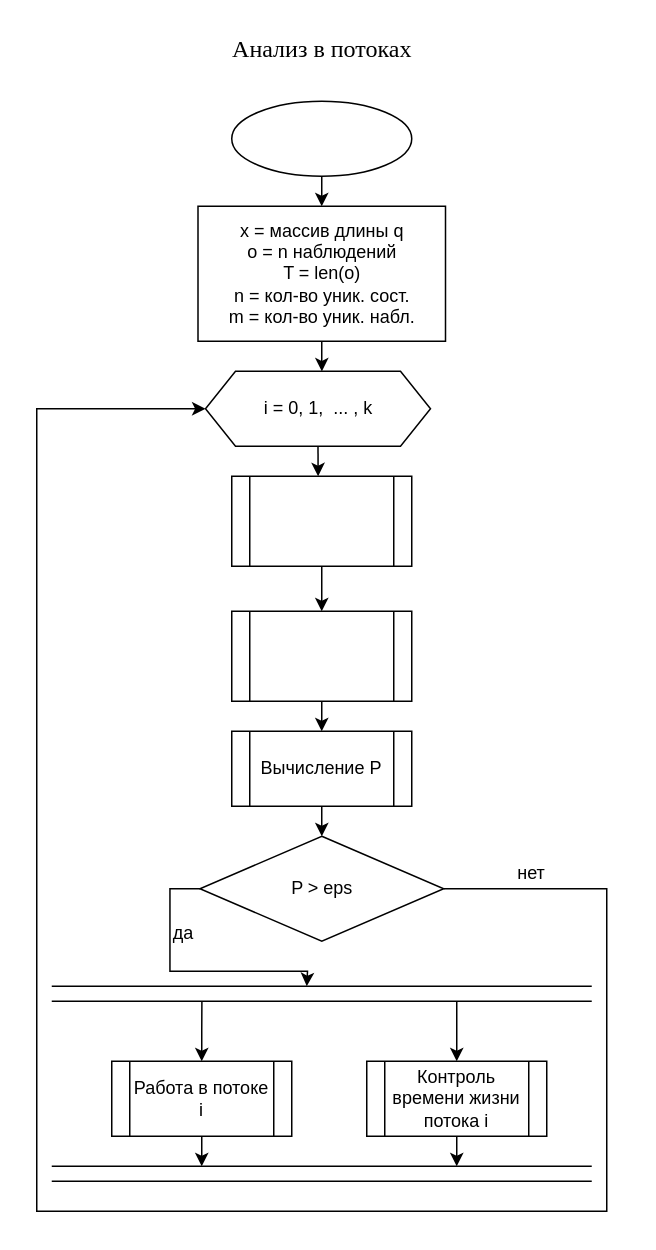
This 656x1250 diagram has some shape labels left out. Each missing label, with the centre of its shape:
"Вычисление обратных переменных" goes at (x=321, y=655).
"Вычисление прямых переменных" goes at (x=321, y=520).
"Начало" goes at (x=321, y=138).
